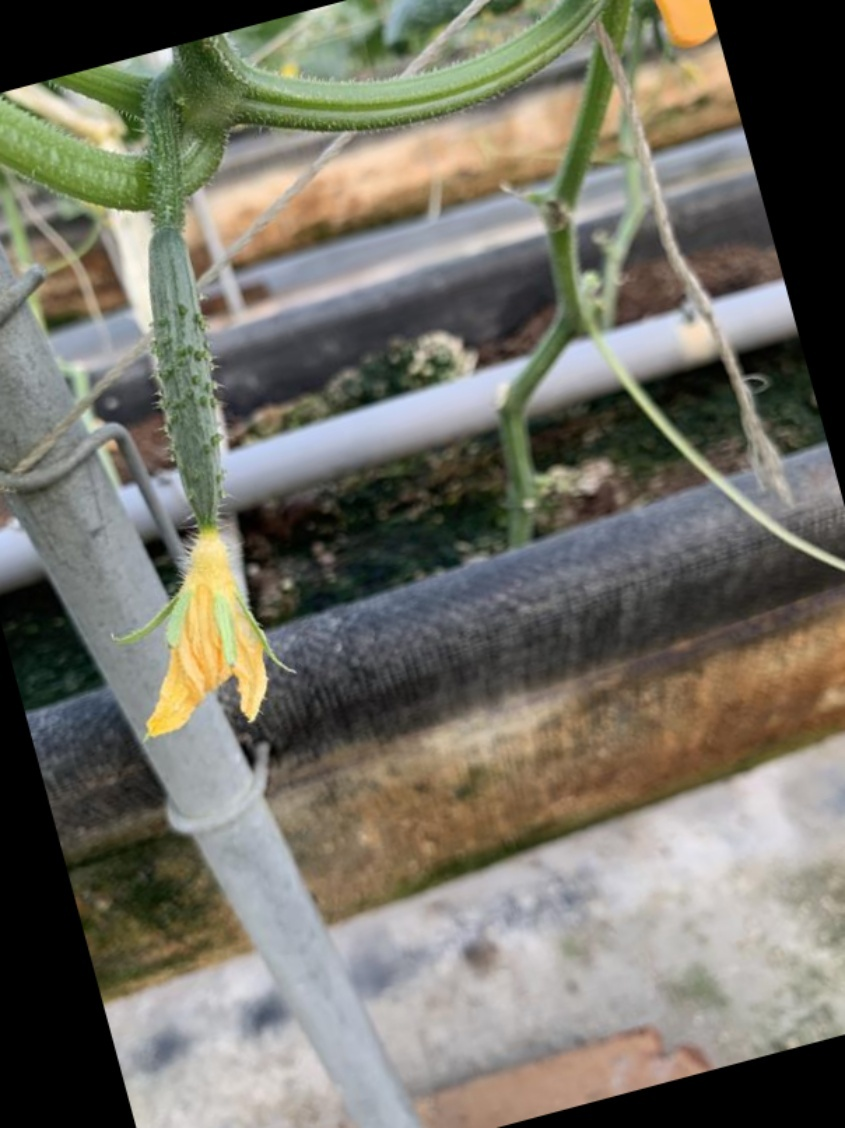bear: (94, 206, 309, 730)
